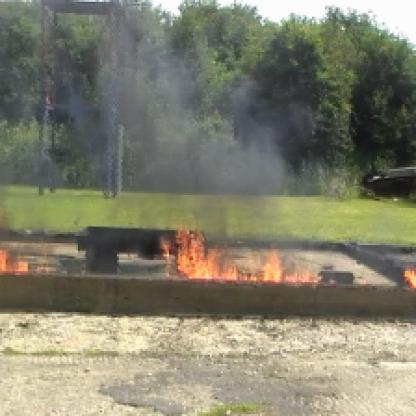Fire: (158, 208, 321, 284), (2, 232, 50, 277), (401, 269, 414, 288)
Smoke: (80, 22, 278, 199)
